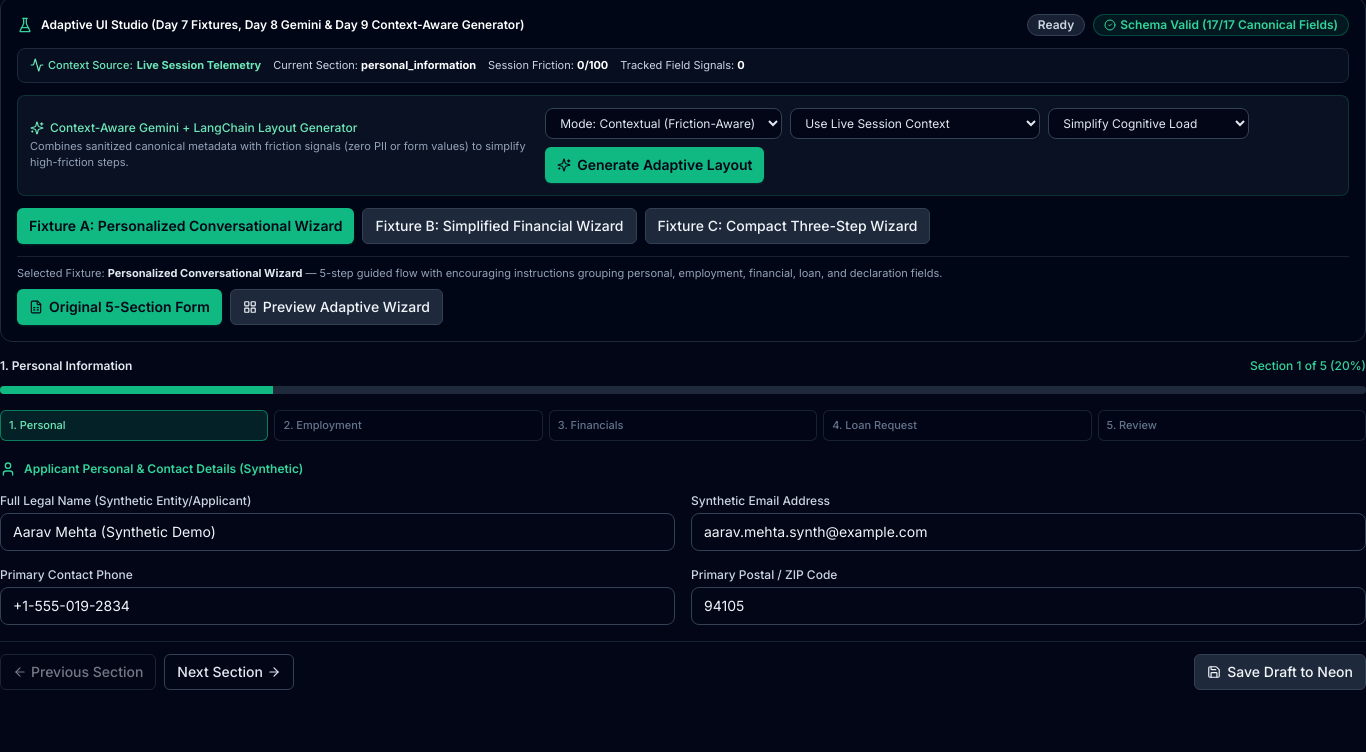
Test case: Day 7: Shared Form State Preservation & Security (10 Core Tests) › 1–6. preserves values across original 5-section form and adaptive wizard switches and submits shared state
Replace the text in the field labelled "Full Legal Name (Synthetic Entity/Applicant)" with "Marcus Sterling". click: (338, 532)
box: [0,512,675,550]
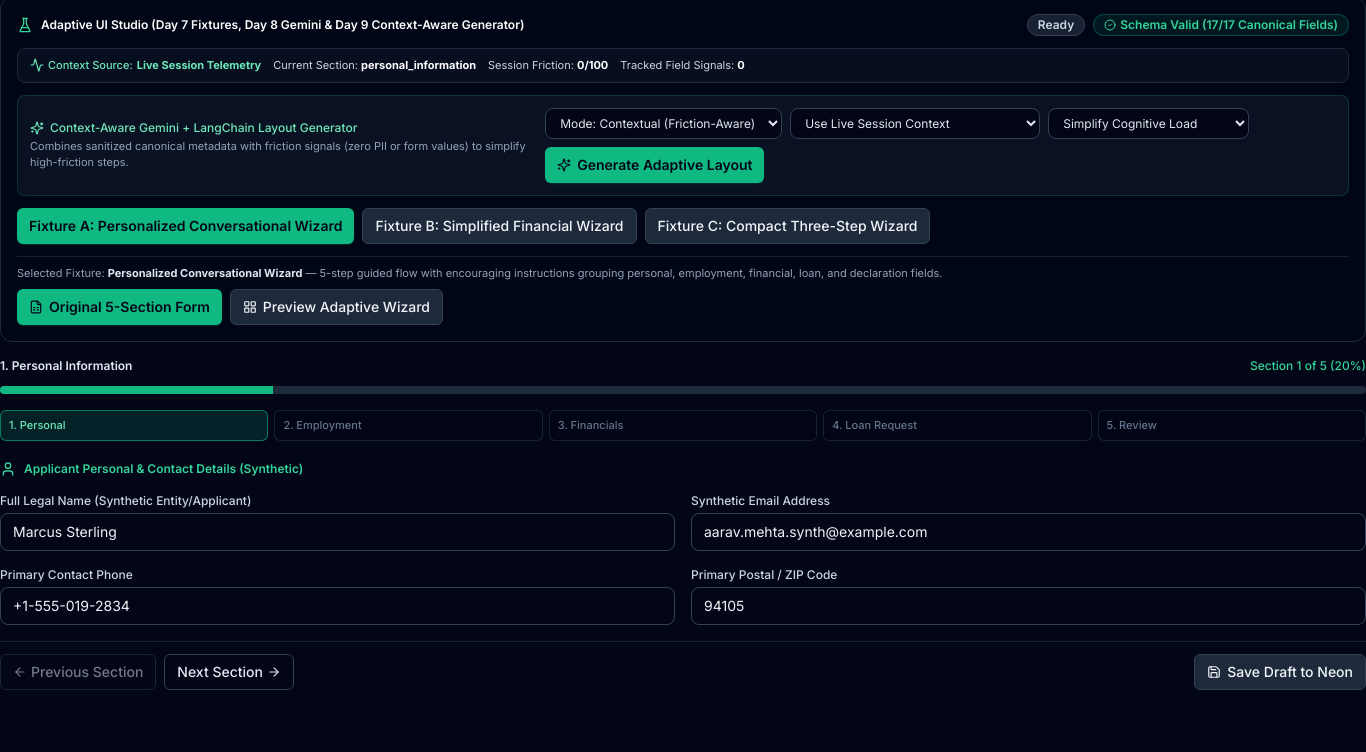
Click the button with test id "view-adaptive-wizard-btn". click: (336, 307)
box: [230,289,443,325]
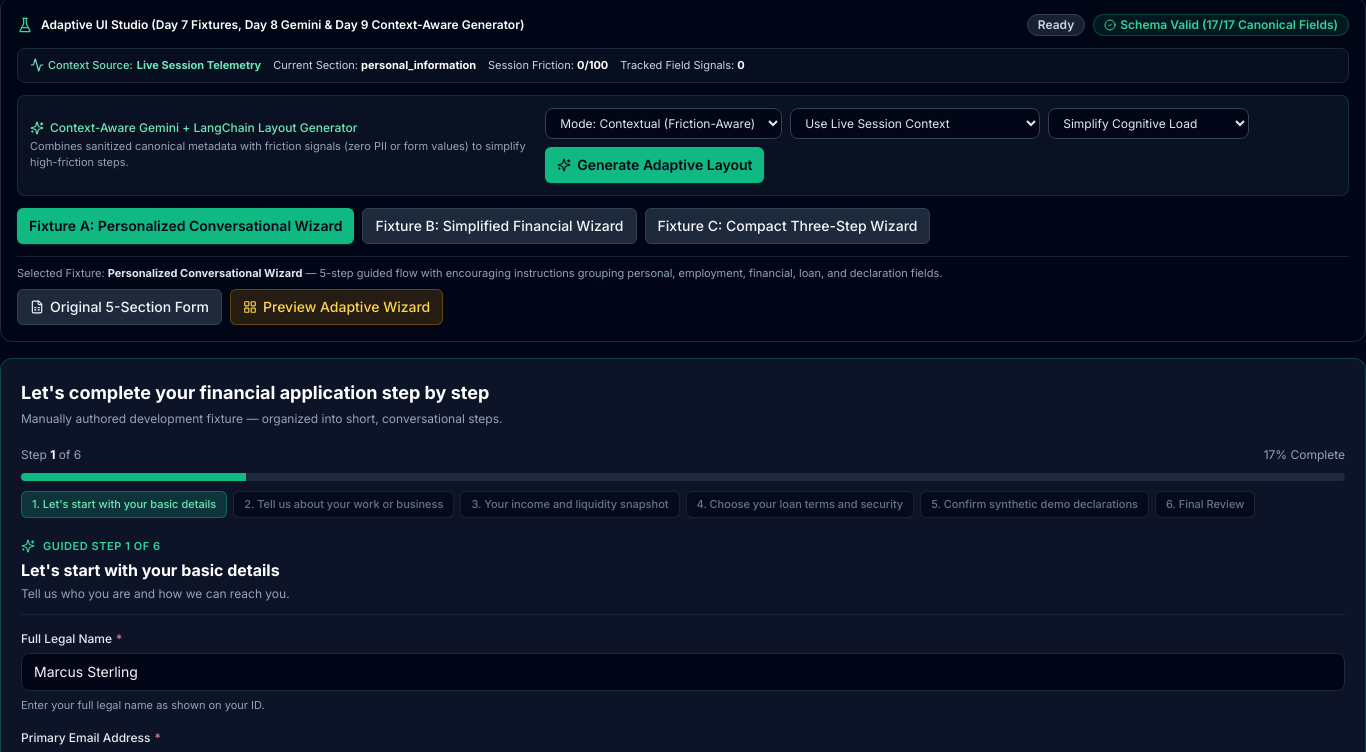
Now the field with test id "adaptive-input-fullName" holds "Marcus Sterling"
Replace the text in the field with test id "adaptive-input-fullName" with "Marcus Sterling III". click: (683, 672)
box: [21,653,1345,691]
(page scrolled)
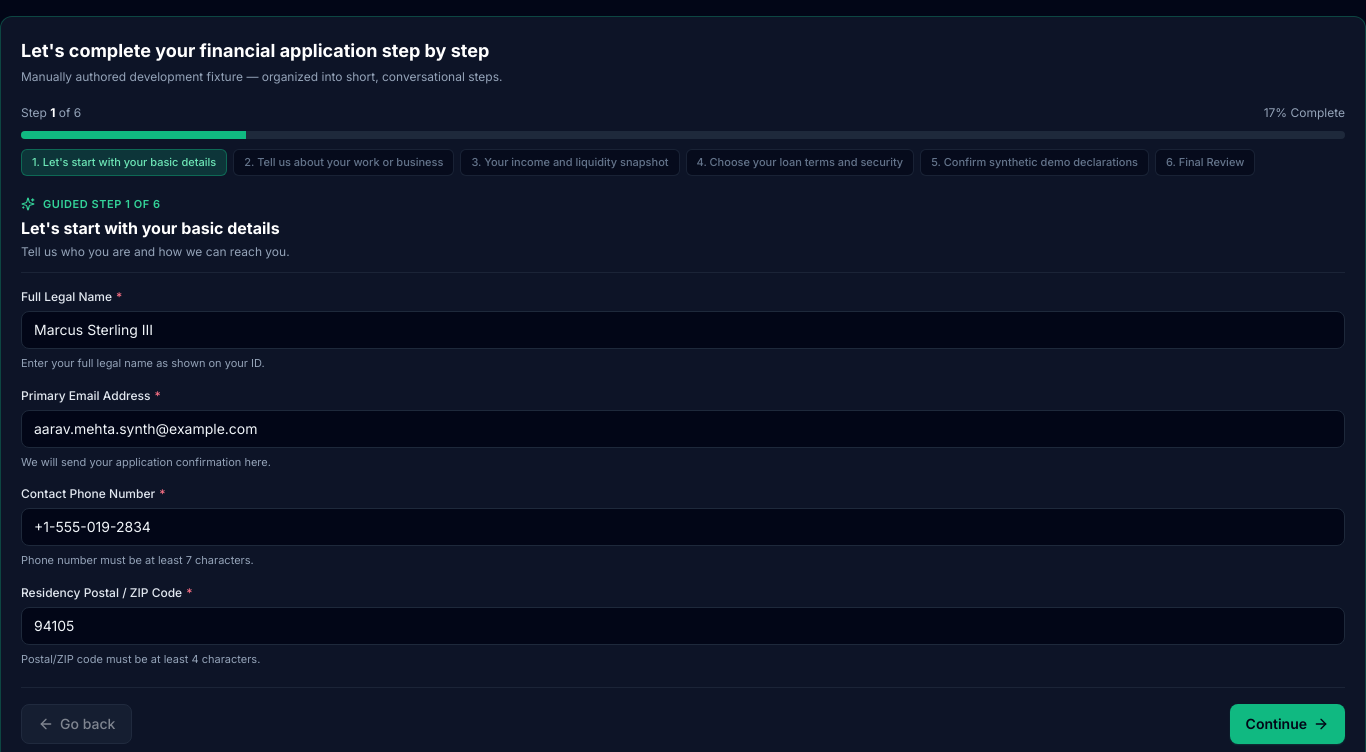
Click the button with test id "adaptive-next-btn". click: (1287, 724)
box: [1230,704,1345,744]
(page scrolled)
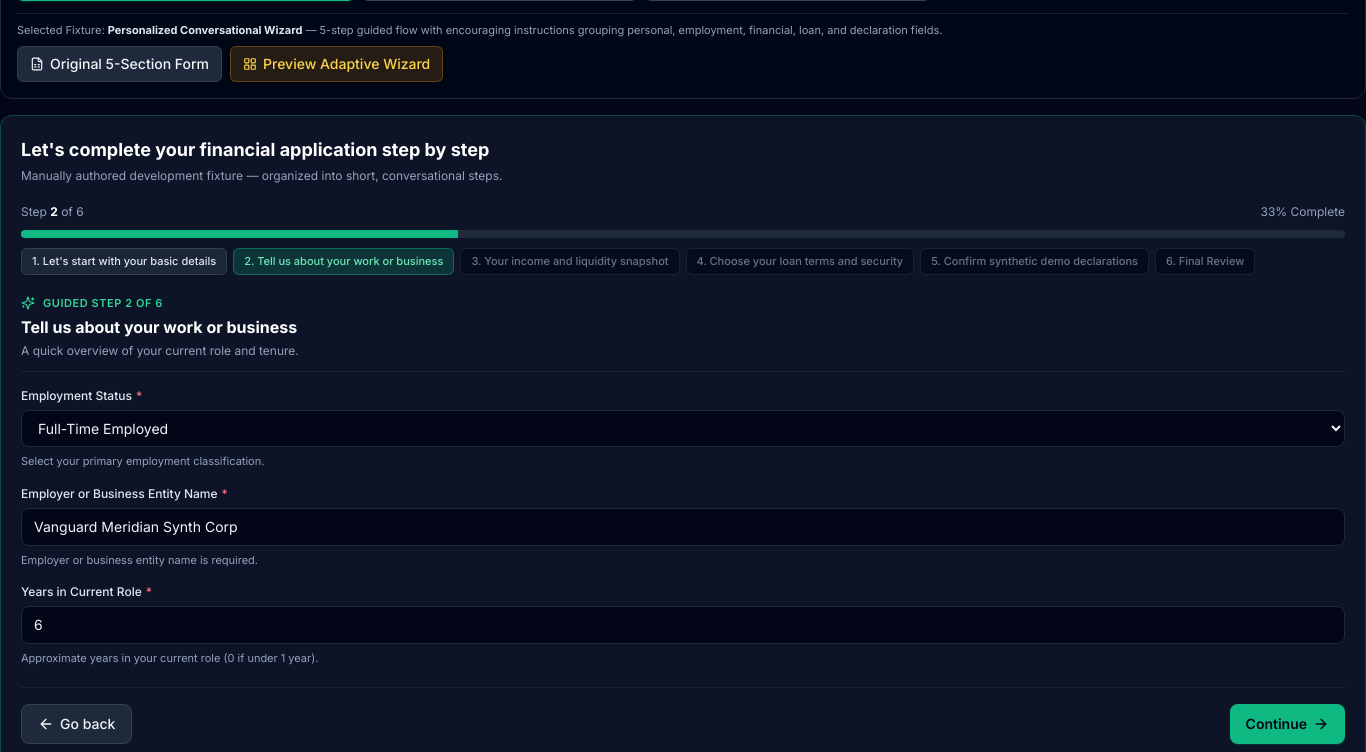
Now the text with test id "adaptive-progress-step" reads "2", box [50,204,58,219]
Click the button with test id "adaptive-prev-btn". click: (77, 724)
box: [21,704,132,744]
(page scrolled)
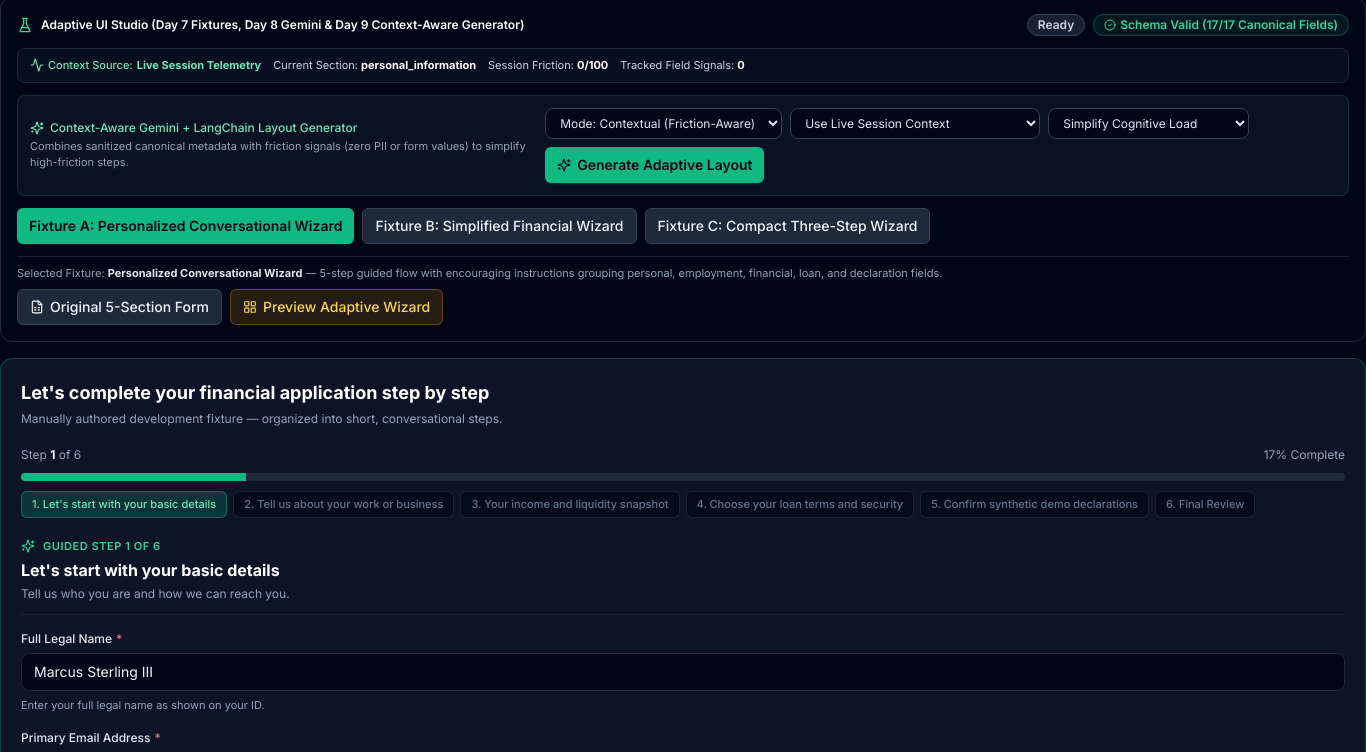
Now the field with test id "adaptive-input-fullName" holds "Marcus Sterling III", box [21,653,1345,691]
Click the button with test id "view-original-form-btn". click: (120, 307)
box: [17,289,222,325]
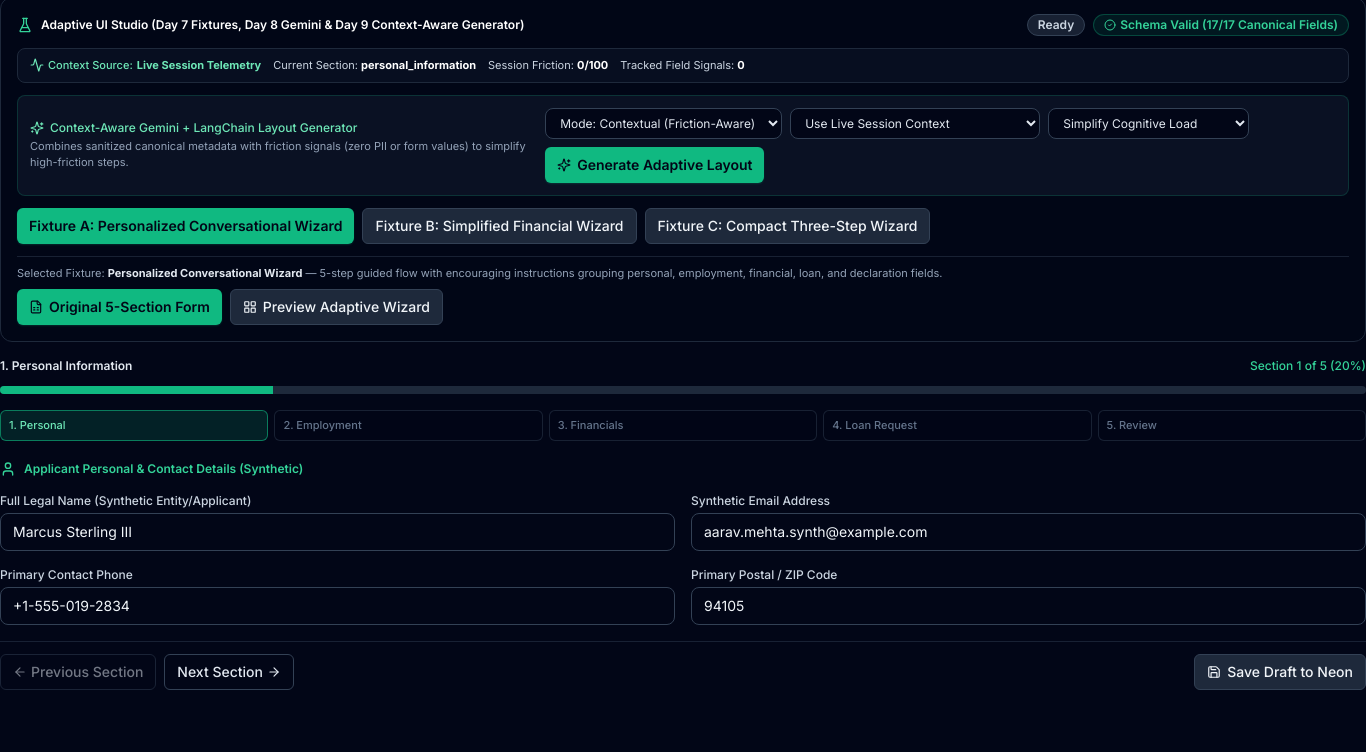
Now the field labelled "Full Legal Name (Synthetic Entity/Applicant)" holds "Marcus Sterling III", box [0,512,675,550]
